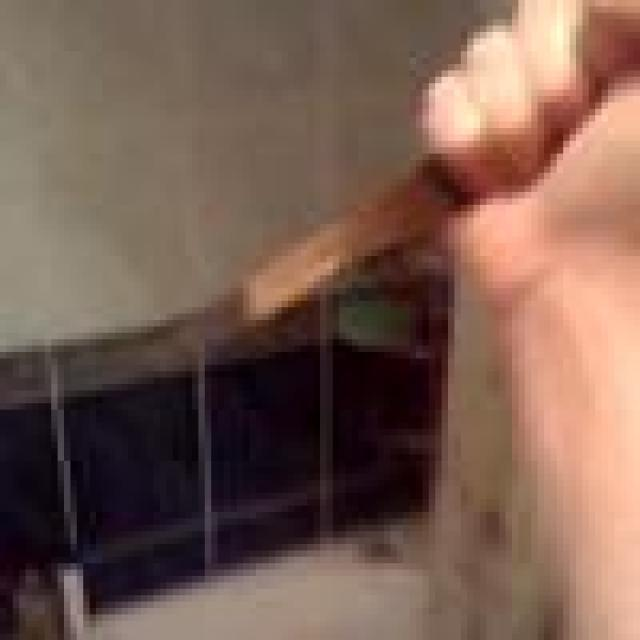faca: (198, 32, 640, 352)
